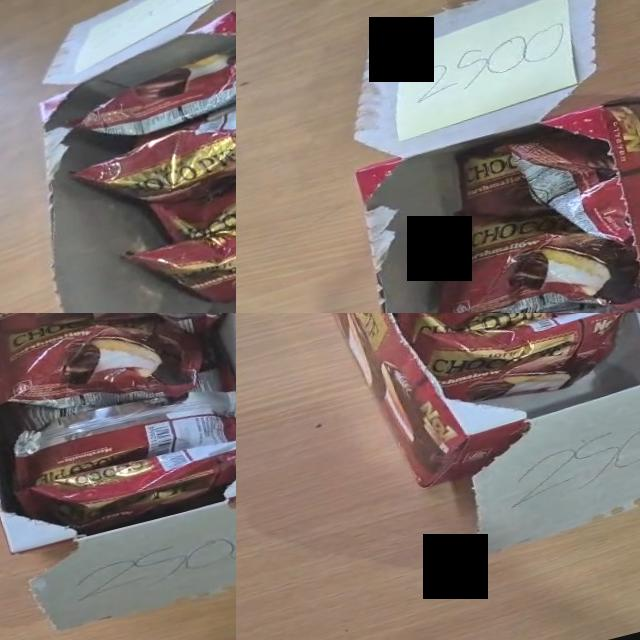Chocopie: (0, 373, 236, 495), (14, 425, 236, 545), (0, 313, 211, 439), (409, 313, 640, 421), (67, 101, 236, 225), (438, 213, 640, 313), (18, 351, 236, 443), (70, 45, 236, 147), (508, 133, 628, 240), (122, 211, 236, 313), (388, 313, 605, 355), (148, 167, 236, 247), (72, 313, 235, 353), (0, 313, 143, 352), (456, 145, 535, 214)
